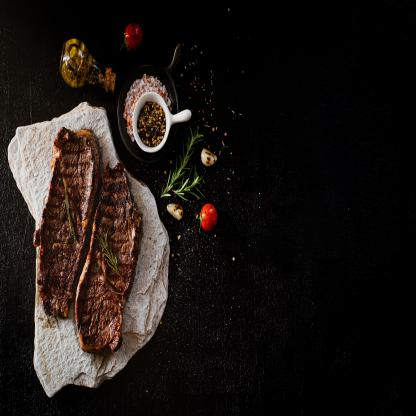Carne: (73, 160, 147, 365), (32, 119, 101, 323)
